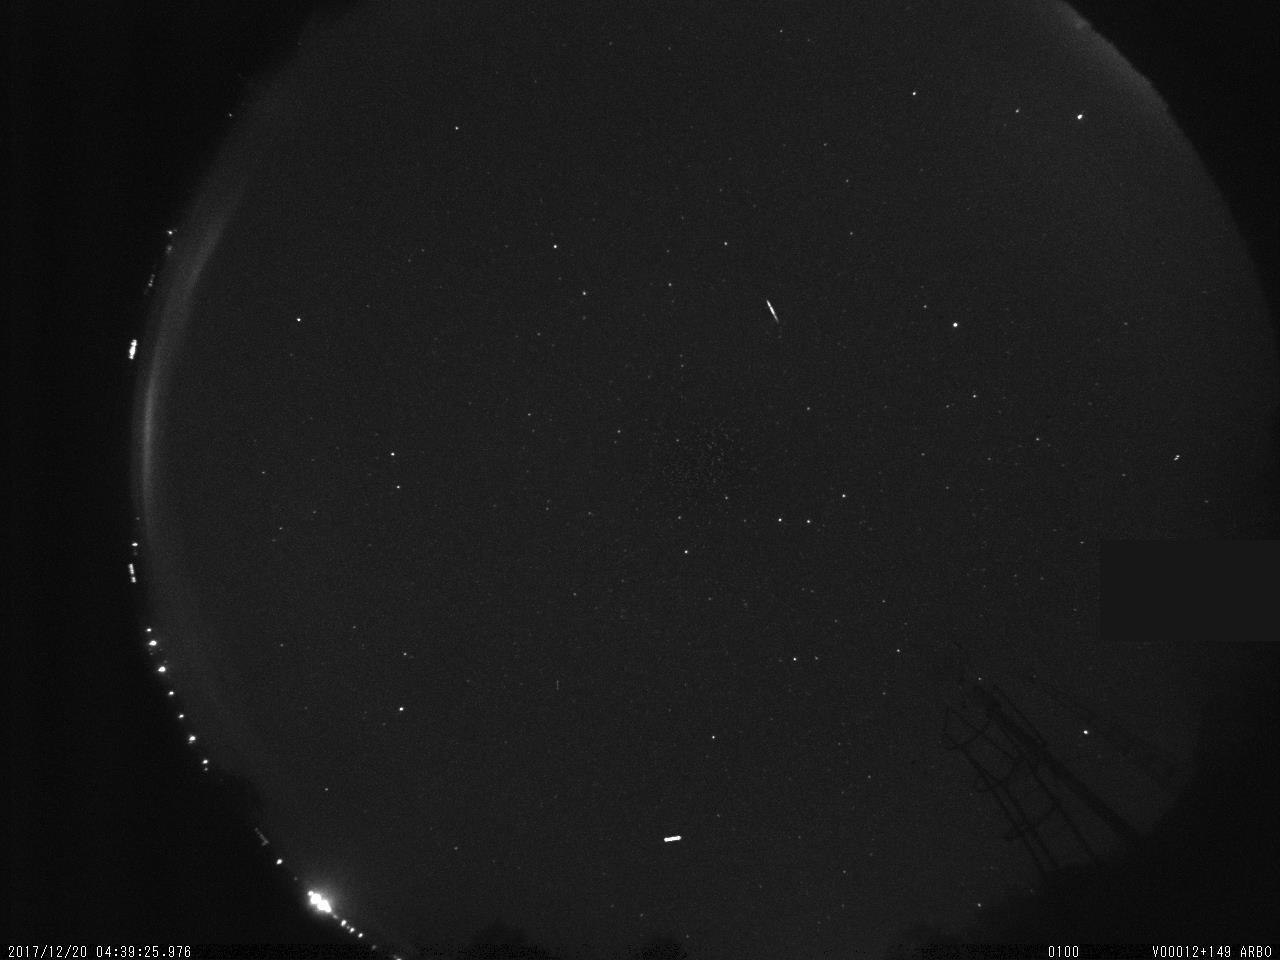meteor: (761, 291, 783, 326)
satelite: (659, 824, 689, 855)
